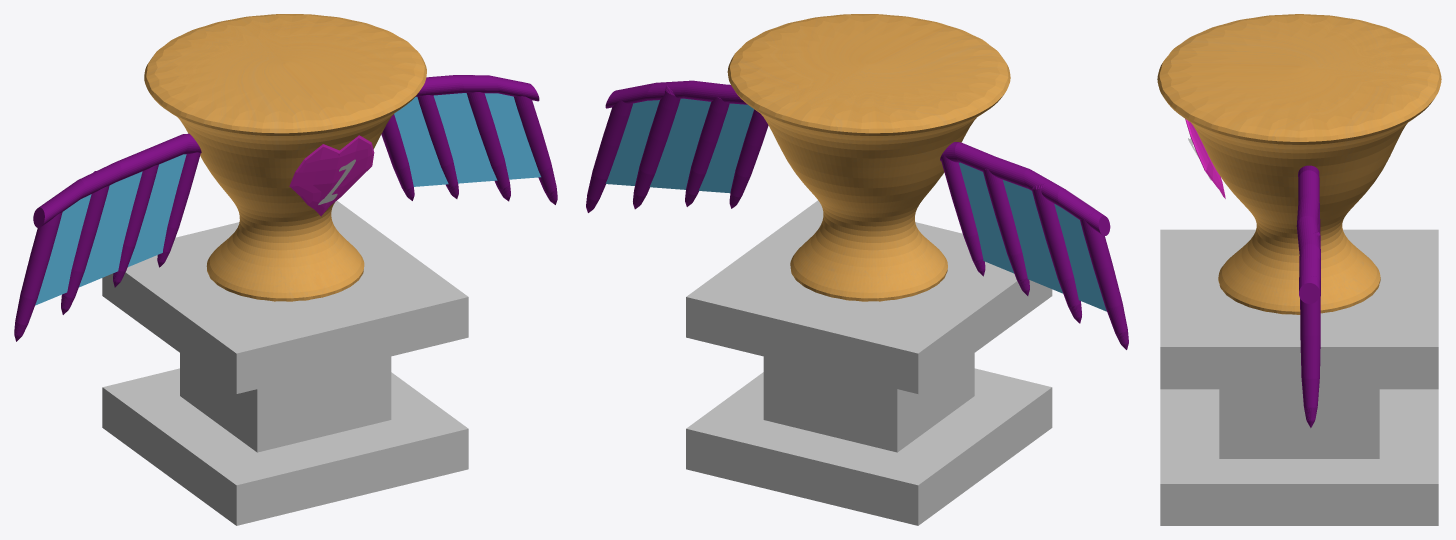
The model's file is Minra_For_Game_Actual.fbx.
3 renders of one model, left to right at view 1: azimuth 30°, elevation 25°; view 2: azimuth 150°, elevation 25°; view 3: azimuth 270°, elevation 25°, orthographic. The views are drawn at different scales.
Parts seen in each view (by area): view 1: Cylinder, Cube.003, Cube.002, Cube.001, Cube.005, Cube.006, Cube.004, Cylinder.001, Cylinder.008, Cylinder.002, Cylinder.006, Cylinder.009 (+5 smaller); view 2: Cylinder, Cube.003, Cube.002, Cube.001, Cube.006, Cube.005, Cylinder.001, Cylinder.008, Cylinder.006, Cylinder.002, Cylinder.009, Cylinder.010 (+4 smaller); view 3: Cylinder, Cube.003, Cube.002, Cube.001, Cylinder.002, Cylinder.010, Cube.004.
Part boxes in pixels (x1,y1,x2,y2): Cylinder: [144, 14, 426, 301]; Cube.003: [102, 201, 468, 393]; Cube.002: [102, 368, 468, 525]; Cube.001: [180, 353, 391, 452]; Cube.005: [35, 154, 186, 305]; Cube.006: [394, 93, 540, 186]; Cube.004: [289, 135, 374, 216]; Cylinder.001: [33, 133, 201, 227]; Cylinder.008: [14, 201, 62, 341]; Cylinder.002: [415, 75, 539, 101]; Cylinder.006: [61, 171, 109, 314]; Cylinder.009: [466, 75, 510, 201]; Cylinder: [727, 14, 1010, 301]; Cube.003: [686, 200, 1052, 393]; Cube.002: [686, 368, 1052, 525]; Cube.001: [763, 353, 974, 452]; Cube.006: [605, 98, 753, 193]; Cube.005: [959, 162, 1106, 311]; Cylinder.001: [940, 142, 1110, 235]; Cylinder.008: [1080, 213, 1128, 349]; Cylinder.006: [1032, 183, 1081, 323]; Cylinder.002: [605, 80, 747, 108]; Cylinder.009: [633, 85, 680, 209]; Cylinder.010: [586, 91, 632, 212]; Cylinder: [1157, 14, 1441, 314]; Cube.003: [1160, 229, 1438, 389]; Cube.002: [1160, 389, 1438, 525]; Cube.001: [1219, 389, 1379, 458]; Cylinder.002: [1296, 165, 1320, 303]; Cylinder.010: [1300, 276, 1320, 427]; Cube.004: [1185, 119, 1225, 198].
Size of the model in its own units: 364 by 250 by 159.
